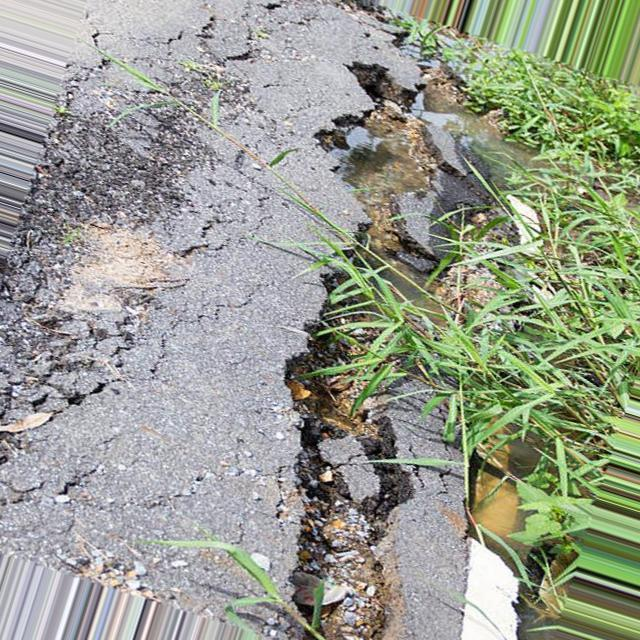Pinggir: (249, 10, 486, 640)
